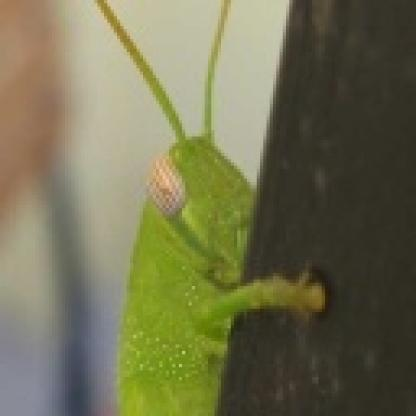grasshopper: (94, 1, 327, 410)
